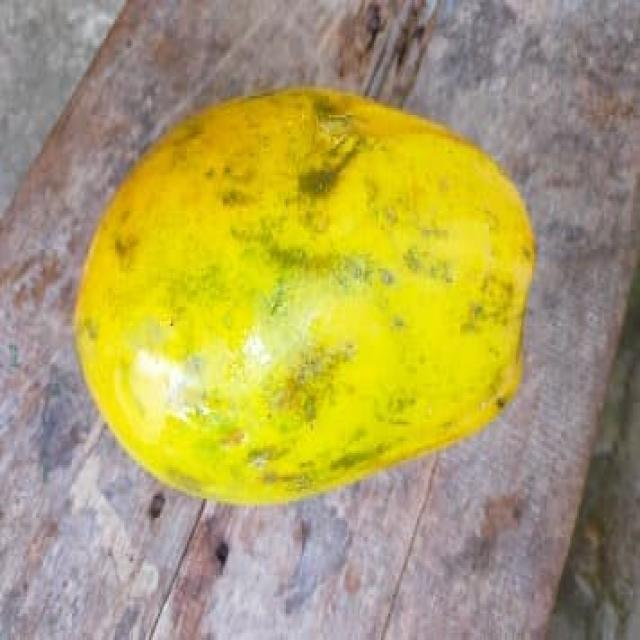Pepaya: (70, 81, 538, 506)
